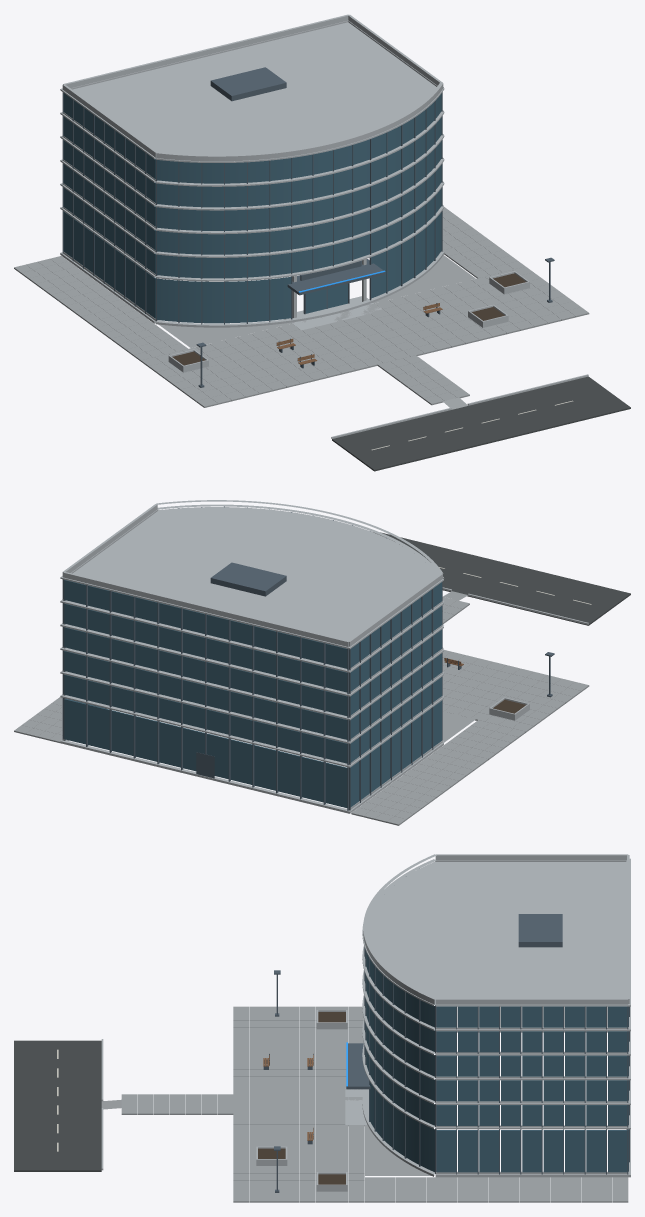
Rendered from landmark-v2.glb.
3 views of the same model, one above another, from view 1: azimuth 30°, elevation 25°; view 2: azimuth 150°, elevation 25°; view 3: azimuth 270°, elevation 25° (orthographic). The views are drawn at different scales.
Parts seen in each view (by area): view 1: front:glass, plaza:paving, roof:stone, left:glass, road:asphalt, front:stone, front:metal, left:stone, left:metal, link:paving, entry:metal, roof:metal (+6 smaller); view 2: rear:glass, roof:stone, plaza:paving, left:glass, rear:stone, road:asphalt, rear:metal, left:stone, left:metal, front:stone, roof:metal, link:paving (+1 smaller); view 3: roof:stone, plaza:paving, right:glass, road:asphalt, front:glass, right:stone, front:stone, link:paving, right:metal, front:metal, roof:metal, props:stone (+4 smaller).
Boxes of the visible parts, <box> form: front:glass: <box>157,93,441,323</box>; plaza:paving: <box>14,207,589,407</box>; roof:stone: <box>62,14,442,157</box>; left:glass: <box>63,93,155,318</box>; road:asphalt: <box>332,376,630,471</box>; front:stone: <box>156,82,444,327</box>; front:metal: <box>156,92,442,324</box>; left:stone: <box>60,88,157,323</box>; left:metal: <box>62,92,146,313</box>; link:paving: <box>377,355,469,409</box>; entry:metal: <box>287,259,385,314</box>; roof:metal: <box>210,67,286,101</box>; rear:glass: <box>64,580,347,807</box>; roof:stone: <box>62,504,442,646</box>; plaza:paving: <box>14,649,589,825</box>; left:glass: <box>350,582,441,807</box>; rear:stone: <box>62,577,347,812</box>; road:asphalt: <box>373,532,630,625</box>; rear:metal: <box>86,585,348,810</box>; left:stone: <box>346,579,443,813</box>; left:metal: <box>349,588,433,810</box>; front:stone: <box>156,500,443,741</box>; roof:metal: <box>210,562,286,596</box>; link:paving: <box>442,591,469,623</box>; roof:stone: <box>367,854,629,1005</box>; plaza:paving: <box>233,1006,628,1202</box>; right:glass: <box>436,1006,627,1172</box>; road:asphalt: <box>14,1040,101,1171</box>; front:glass: <box>365,949,434,1172</box>; right:stone: <box>435,1003,630,1177</box>; front:stone: <box>362,854,436,1176</box>; link:paving: <box>101,1094,233,1114</box>; right:metal: <box>456,1006,628,1174</box>; front:metal: <box>364,868,436,1173</box>; roof:metal: <box>518,914,562,947</box>; props:stone: <box>256,1010,347,1191</box>.
Bounding box in the file's own units: 41.99 × 18.1 × 56.24.
